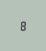eight: (19, 20, 25, 30)
